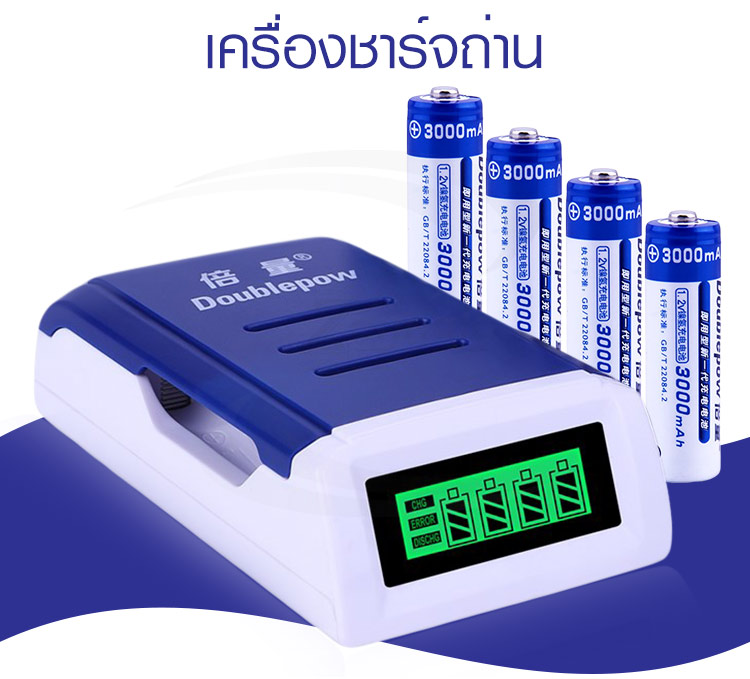Battery: (644, 210, 723, 482), (406, 84, 487, 311), (564, 169, 642, 399), (485, 126, 561, 350)
